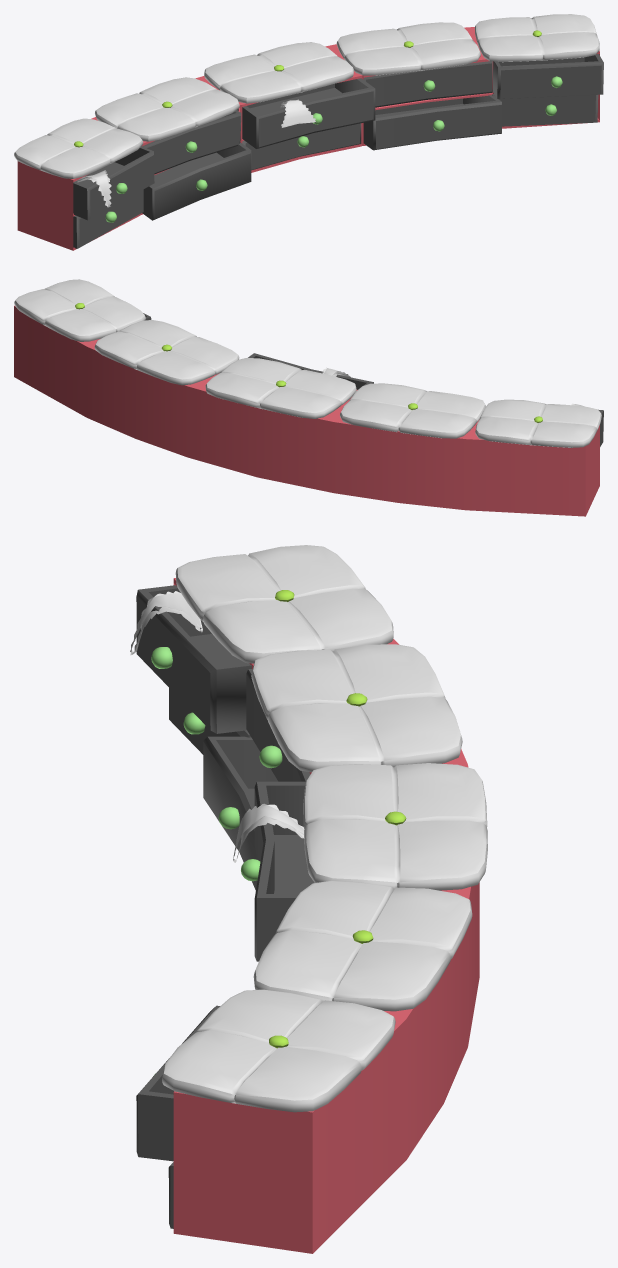
File: curved_couch.fbx
3 views of the same model, one above another, from view 1: azimuth 30°, elevation 25°; view 2: azimuth 150°, elevation 25°; view 3: azimuth 270°, elevation 25° (orthographic). The views are drawn at different scales.
Parts seen in each view (by area): view 1: Cube.057, Cube, Cube.058, Cube.055, Cube.007, Cube.003, Cube.059, Cube.056, Sphere.005, Cube.009, Cube.005, Cube.008 (+6 smaller); view 2: Cube, Cube.057, Cube.055, Cube.058, Cube.059, Cube.056, Cube.003; view 3: Cube, Cube.057, Cube.055, Cube.058, Cube.059, Cube.056, Cube.008, Cube.003, Sphere.005, Cube.009, Cube.004, Cube.006 (+2 smaller).
Boxes of the visible parts, bbox=[...] form: Cube.057: bbox=[204, 42, 353, 103]; Cube: bbox=[17, 27, 599, 250]; Cube.058: bbox=[336, 22, 480, 75]; Cube.055: bbox=[95, 77, 239, 141]; Cube.007: bbox=[363, 95, 501, 150]; Cube.003: bbox=[237, 78, 375, 148]; Cube.059: bbox=[474, 14, 599, 62]; Cube.056: bbox=[14, 118, 143, 178]; Sphere.005: bbox=[142, 142, 251, 220]; Cube.009: bbox=[492, 54, 603, 98]; Cube.005: bbox=[363, 61, 492, 107]; Cube.008: bbox=[73, 146, 154, 220]; Cube: bbox=[14, 305, 599, 516]; Cube.057: bbox=[205, 358, 356, 418]; Cube.055: bbox=[340, 383, 485, 438]; Cube.058: bbox=[94, 320, 239, 385]; Cube.059: bbox=[14, 279, 145, 341]; Cube.056: bbox=[475, 399, 601, 447]; Cube.003: bbox=[248, 353, 373, 389]; Cube: bbox=[173, 578, 479, 1253]; Cube.057: bbox=[303, 763, 487, 890]; Cube.055: bbox=[251, 644, 462, 772]; Cube.058: bbox=[253, 880, 472, 1011]; Cube.059: bbox=[162, 989, 395, 1112]; Cube.056: bbox=[175, 545, 393, 663]; Cube.008: bbox=[136, 585, 251, 733]; Cube.003: bbox=[241, 781, 314, 961]; Sphere.005: bbox=[203, 736, 278, 890]; Cube.009: bbox=[136, 1005, 219, 1161]; Cube.004: bbox=[246, 669, 310, 781]; Cube.006: bbox=[169, 688, 250, 754].
Size of the model in its own units: 1288 by 174 by 349.
